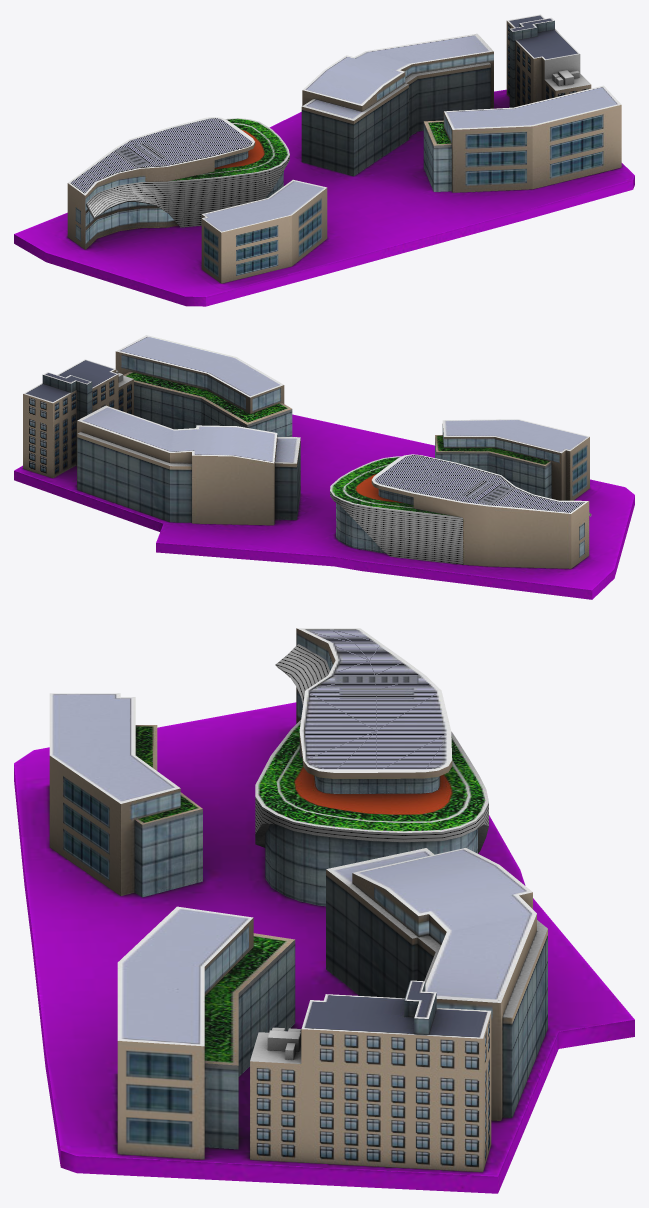
File: gjwdzx.gltf
3 renders of one model, top to bottom at view 1: azimuth 30°, elevation 25°; view 2: azimuth 150°, elevation 25°; view 3: azimuth 270°, elevation 25°, orthographic. The views are drawn at different scales.
Parts seen in each view (by area): view 1: pCube18; view 2: pCube18; view 3: pCube18.
Part boxes in pixels (box(x1,y1,x2,y2)): pCube18: box(14, 14, 634, 306); pCube18: box(14, 335, 634, 599); pCube18: box(14, 628, 634, 1193).
Size of the model in its own units: 30.26 by 4.89 by 16.43.
Materials: 1 (1 with a texture image).
